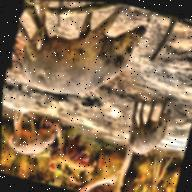boar: (3, 0, 155, 133), (1, 99, 70, 171), (117, 91, 179, 167)
